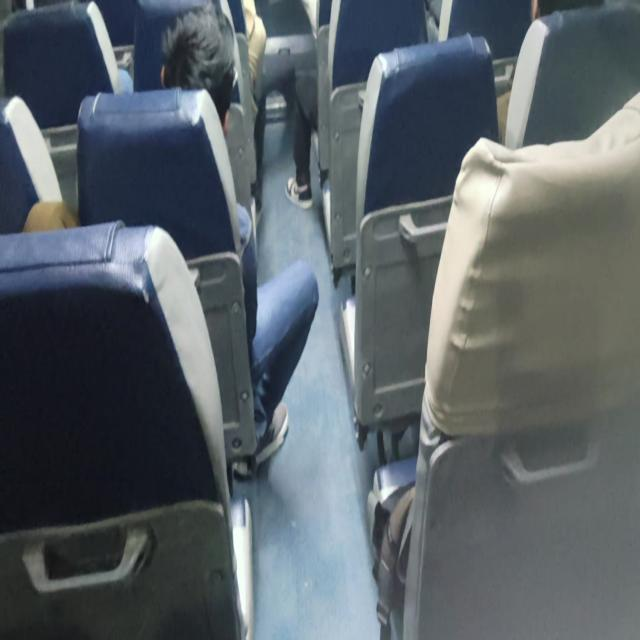person: (158, 5, 320, 467), (284, 0, 333, 210), (159, 4, 237, 134)
